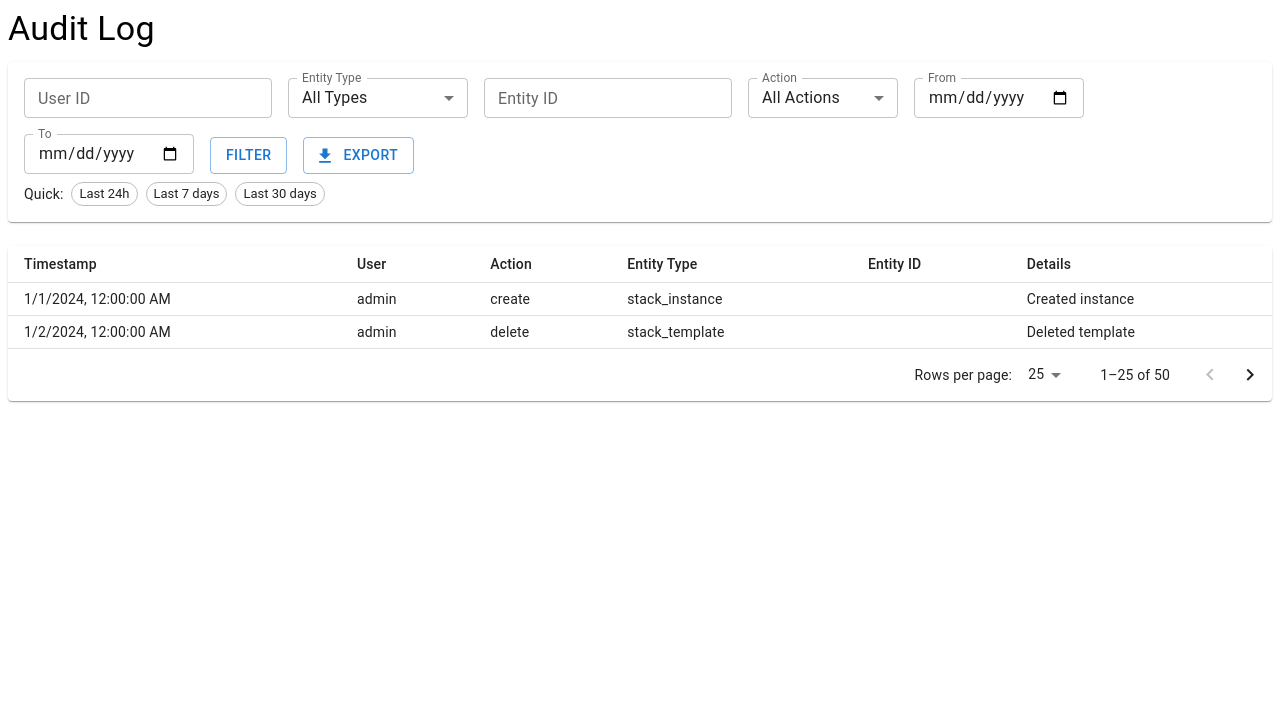
Test case: Audit Log Page › offers the operation actions and singular entity types as filter options
The width and height of the screenshot is (1280, 720).
Click the dropdown labelled "Action" at (801, 98), box [762,88,840,107]
(page scrolled)
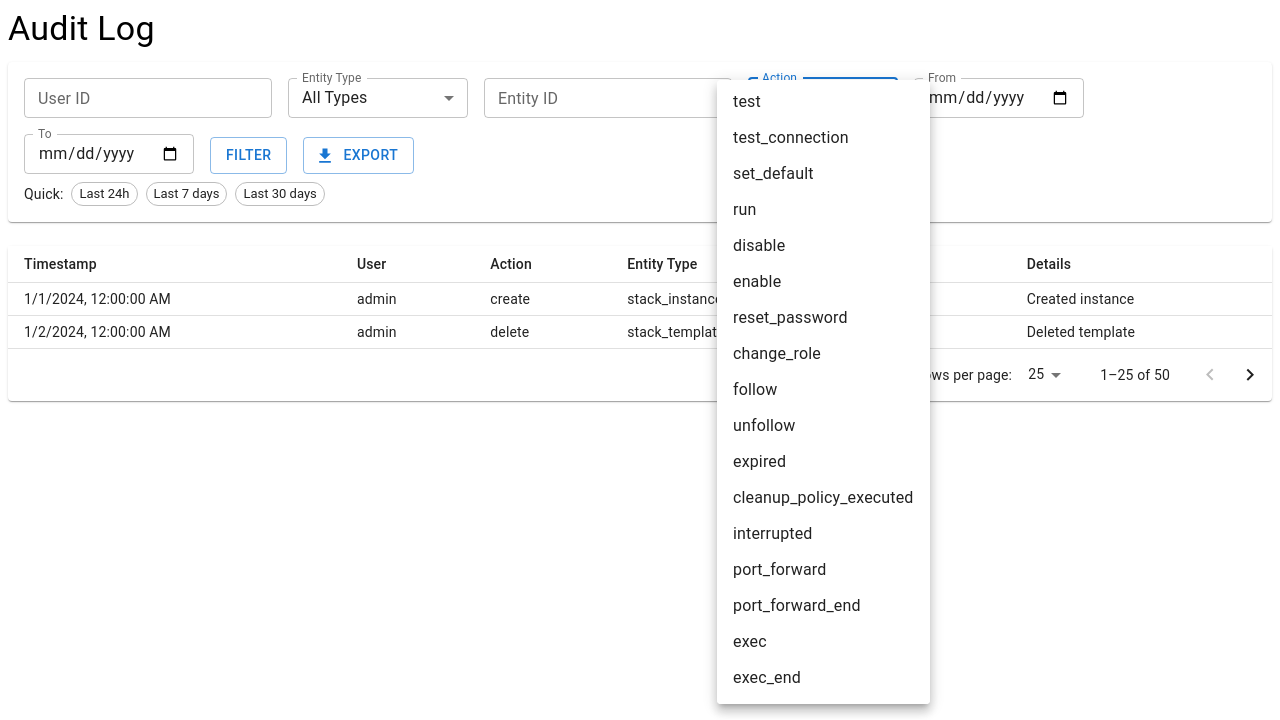
Expected: the option "expired" is shown, [733,452,786,471]
Expected: the option "port_forward" is shown, [733,560,826,579]
Expected: the option "port_forward_end" is shown, [733,596,861,615]
Press Escape
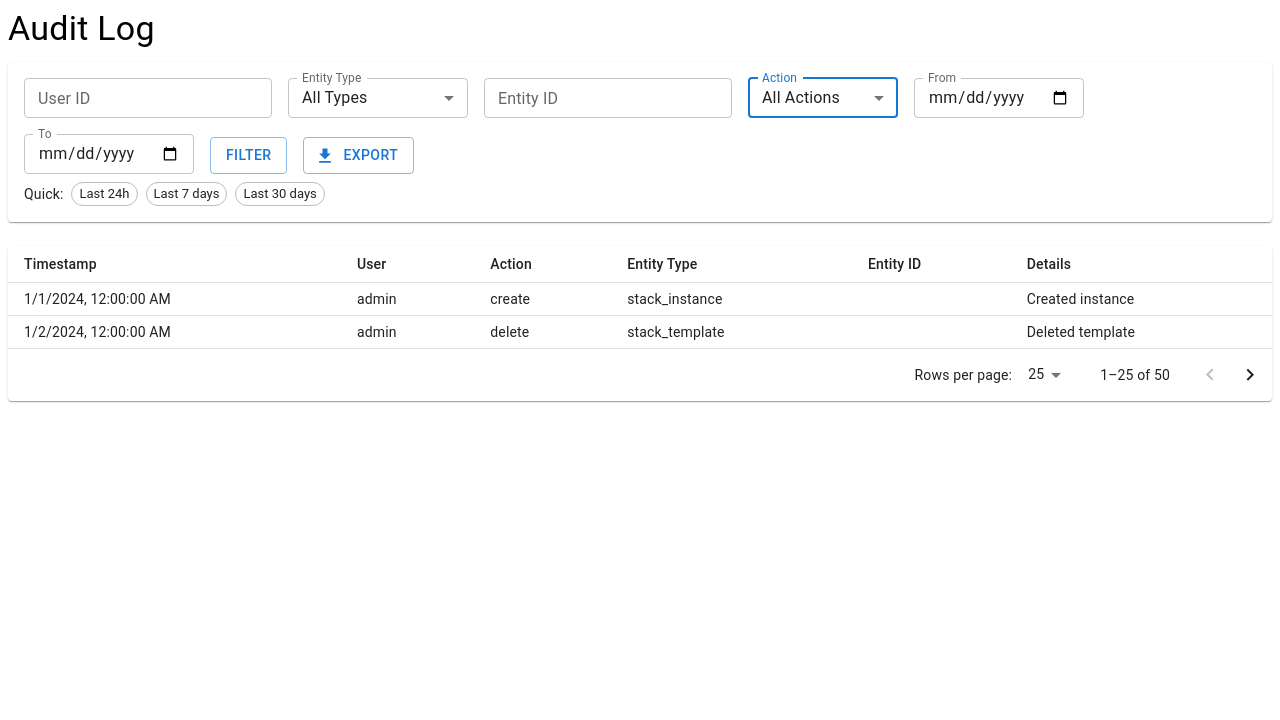
Click the dropdown named "Entity Type" at (335, 98), box [302,88,368,107]
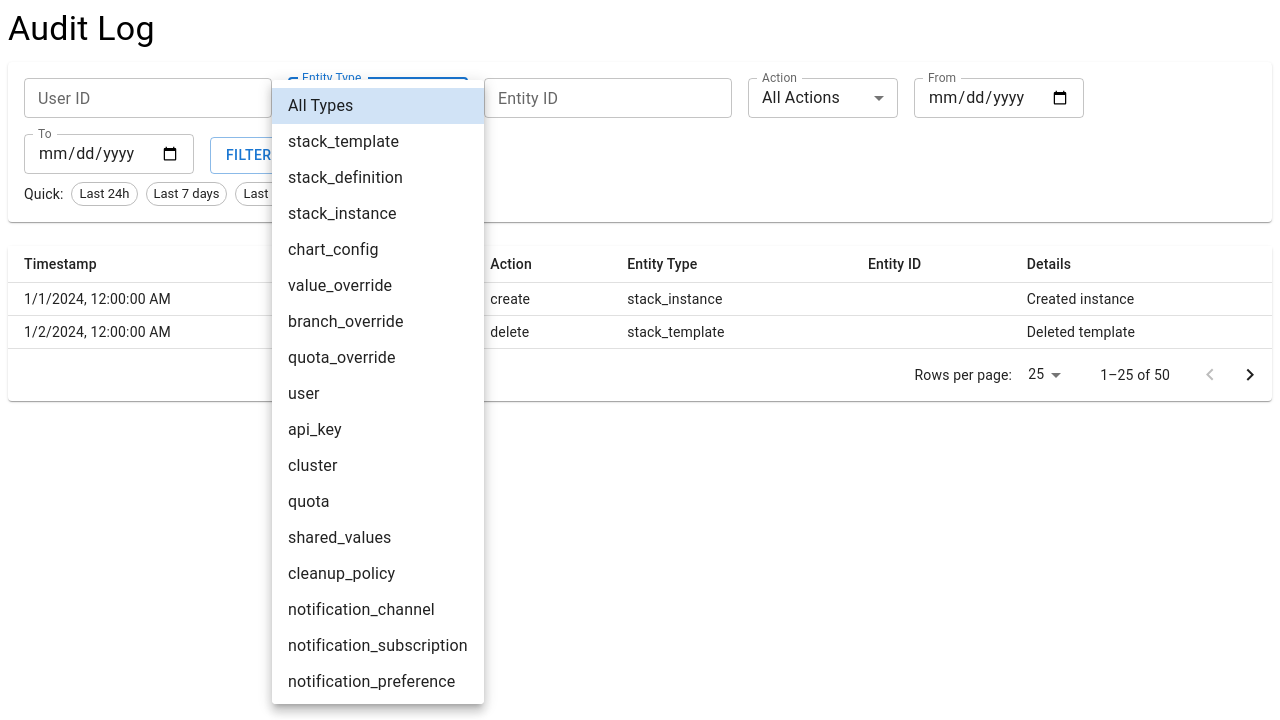
Expected: the option "cluster" is shown, [288,456,338,475]
Expected: the option "cleanup_policy" is shown, [288,564,395,583]
Expected: the option "notification_channel" is shown, [288,600,435,619]
